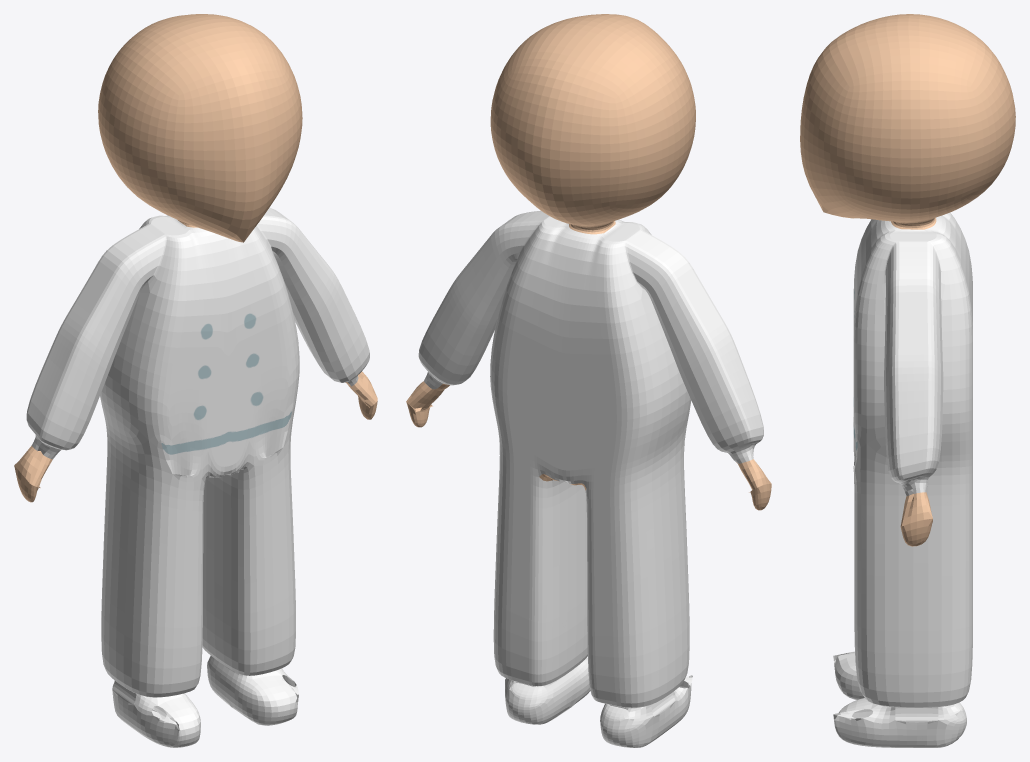
Rendered from chef.fbx.
The picture shows the model from 3 angles, left to right: view 1: azimuth 30°, elevation 25°; view 2: azimuth 150°, elevation 25°; view 3: azimuth 270°, elevation 25°; orthographic projection.
Parts seen in each view (by area): view 1: Cube; view 2: Cube; view 3: Cube.
Part boxes in pixels (x1,y1,x2,y2): Cube: [14, 14, 377, 747]; Cube: [406, 14, 771, 747]; Cube: [800, 14, 1015, 747].
Size of the model in its own units: 342 by 640 by 181.
